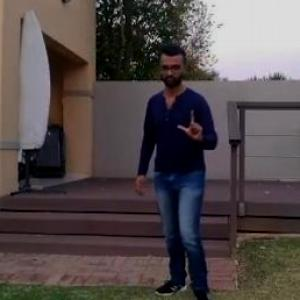land_hand: (174, 102, 210, 146)
